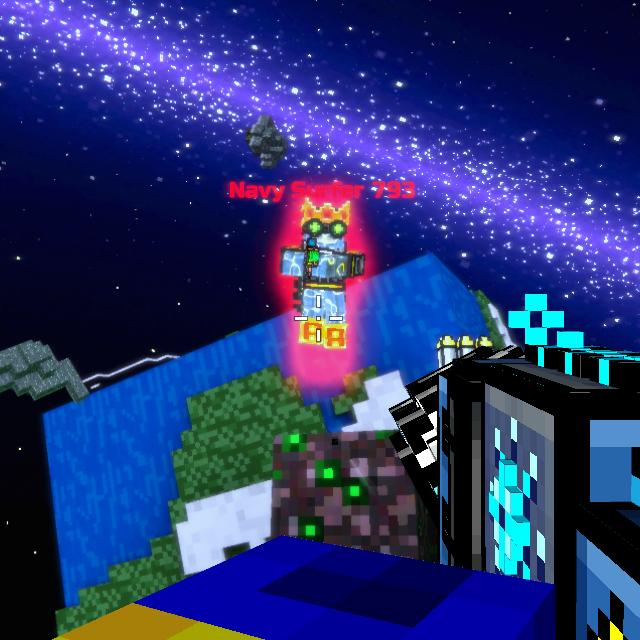Enemy: (282, 206, 367, 350)
